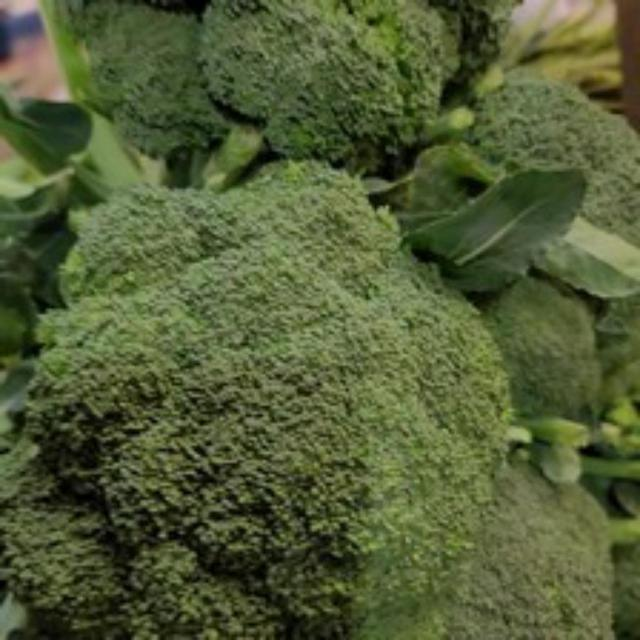broccoli: (26, 163, 514, 637)
